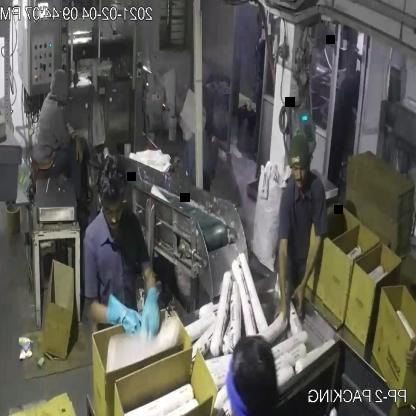glove: (88, 293, 144, 338), (140, 270, 160, 338)
no_glove: (290, 208, 331, 320), (270, 222, 298, 328), (62, 136, 85, 167)
